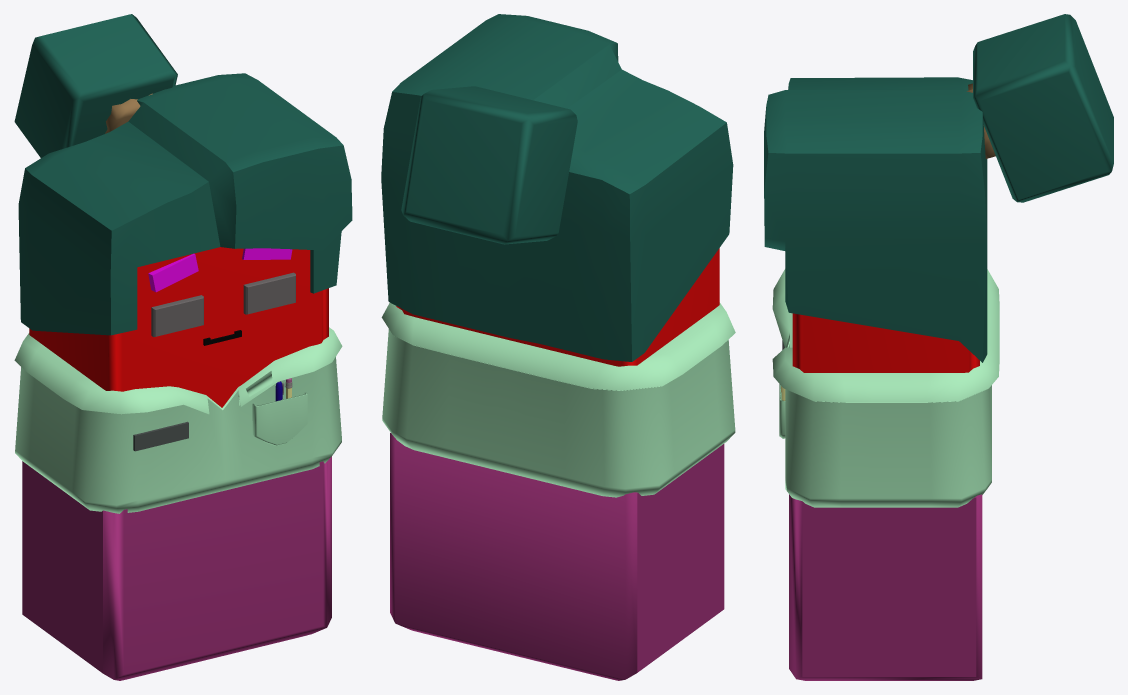
Rendered from Office Level Pocket NPC.fbx.
The picture shows the model from 3 angles, left to right: view 1: azimuth 30°, elevation 25°; view 2: azimuth 150°, elevation 25°; view 3: azimuth 270°, elevation 25°; orthographic projection. The views are drawn at different scales.
Parts seen in each view (by area): view 1: Eye7; view 2: Eye7; view 3: Eye7.
Boxes of the visible parts, x1=… form: Eye7: x1=14, y1=14, x2=352, y2=680; Eye7: x1=381, y1=14, x2=735, y2=680; Eye7: x1=764, y1=14, x2=1113, y2=680.
Size of the model in its own units: 98.04 by 194 by 104.
